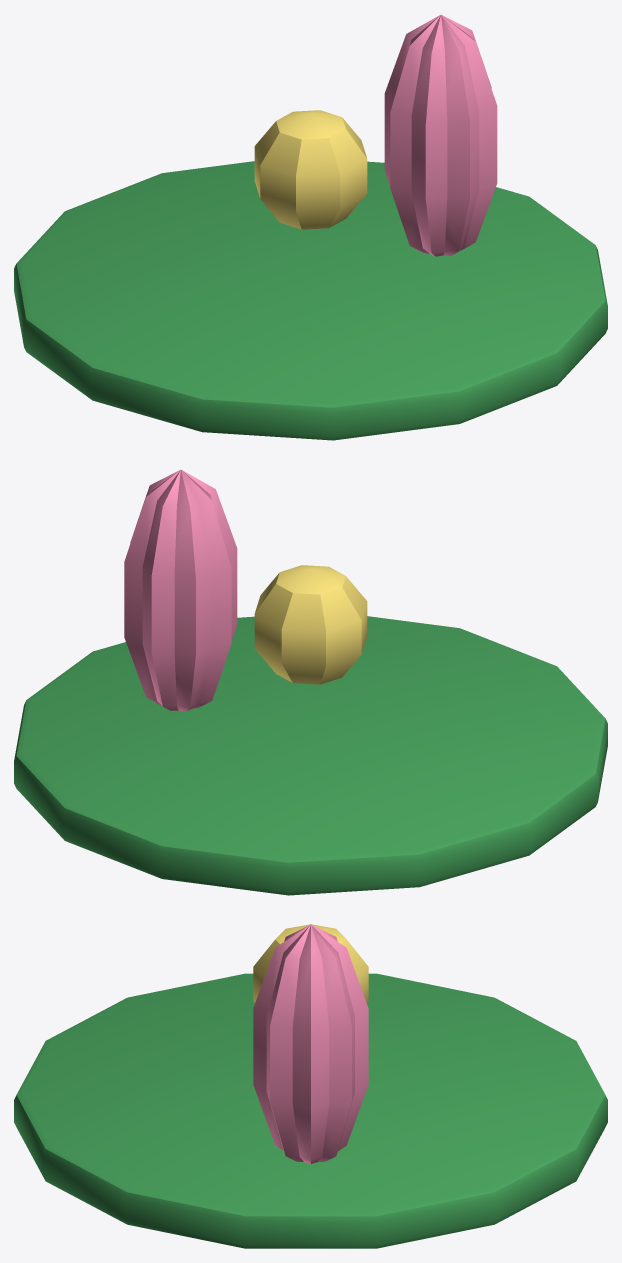
The model's file is DecoLotus.fbx.
3 renders of one model, top to bottom at view 1: azimuth 30°, elevation 25°; view 2: azimuth 150°, elevation 25°; view 3: azimuth 270°, elevation 25°, orthographic.
Parts seen in each view (by area): view 1: DecoLotus; view 2: DecoLotus; view 3: DecoLotus.
Boxes of the visible parts, bbox=[...] form: DecoLotus: bbox=[14, 14, 607, 440]; DecoLotus: bbox=[14, 469, 607, 895]; DecoLotus: bbox=[14, 924, 607, 1248].
Size of the model in its own units: 214 by 110 by 220.
